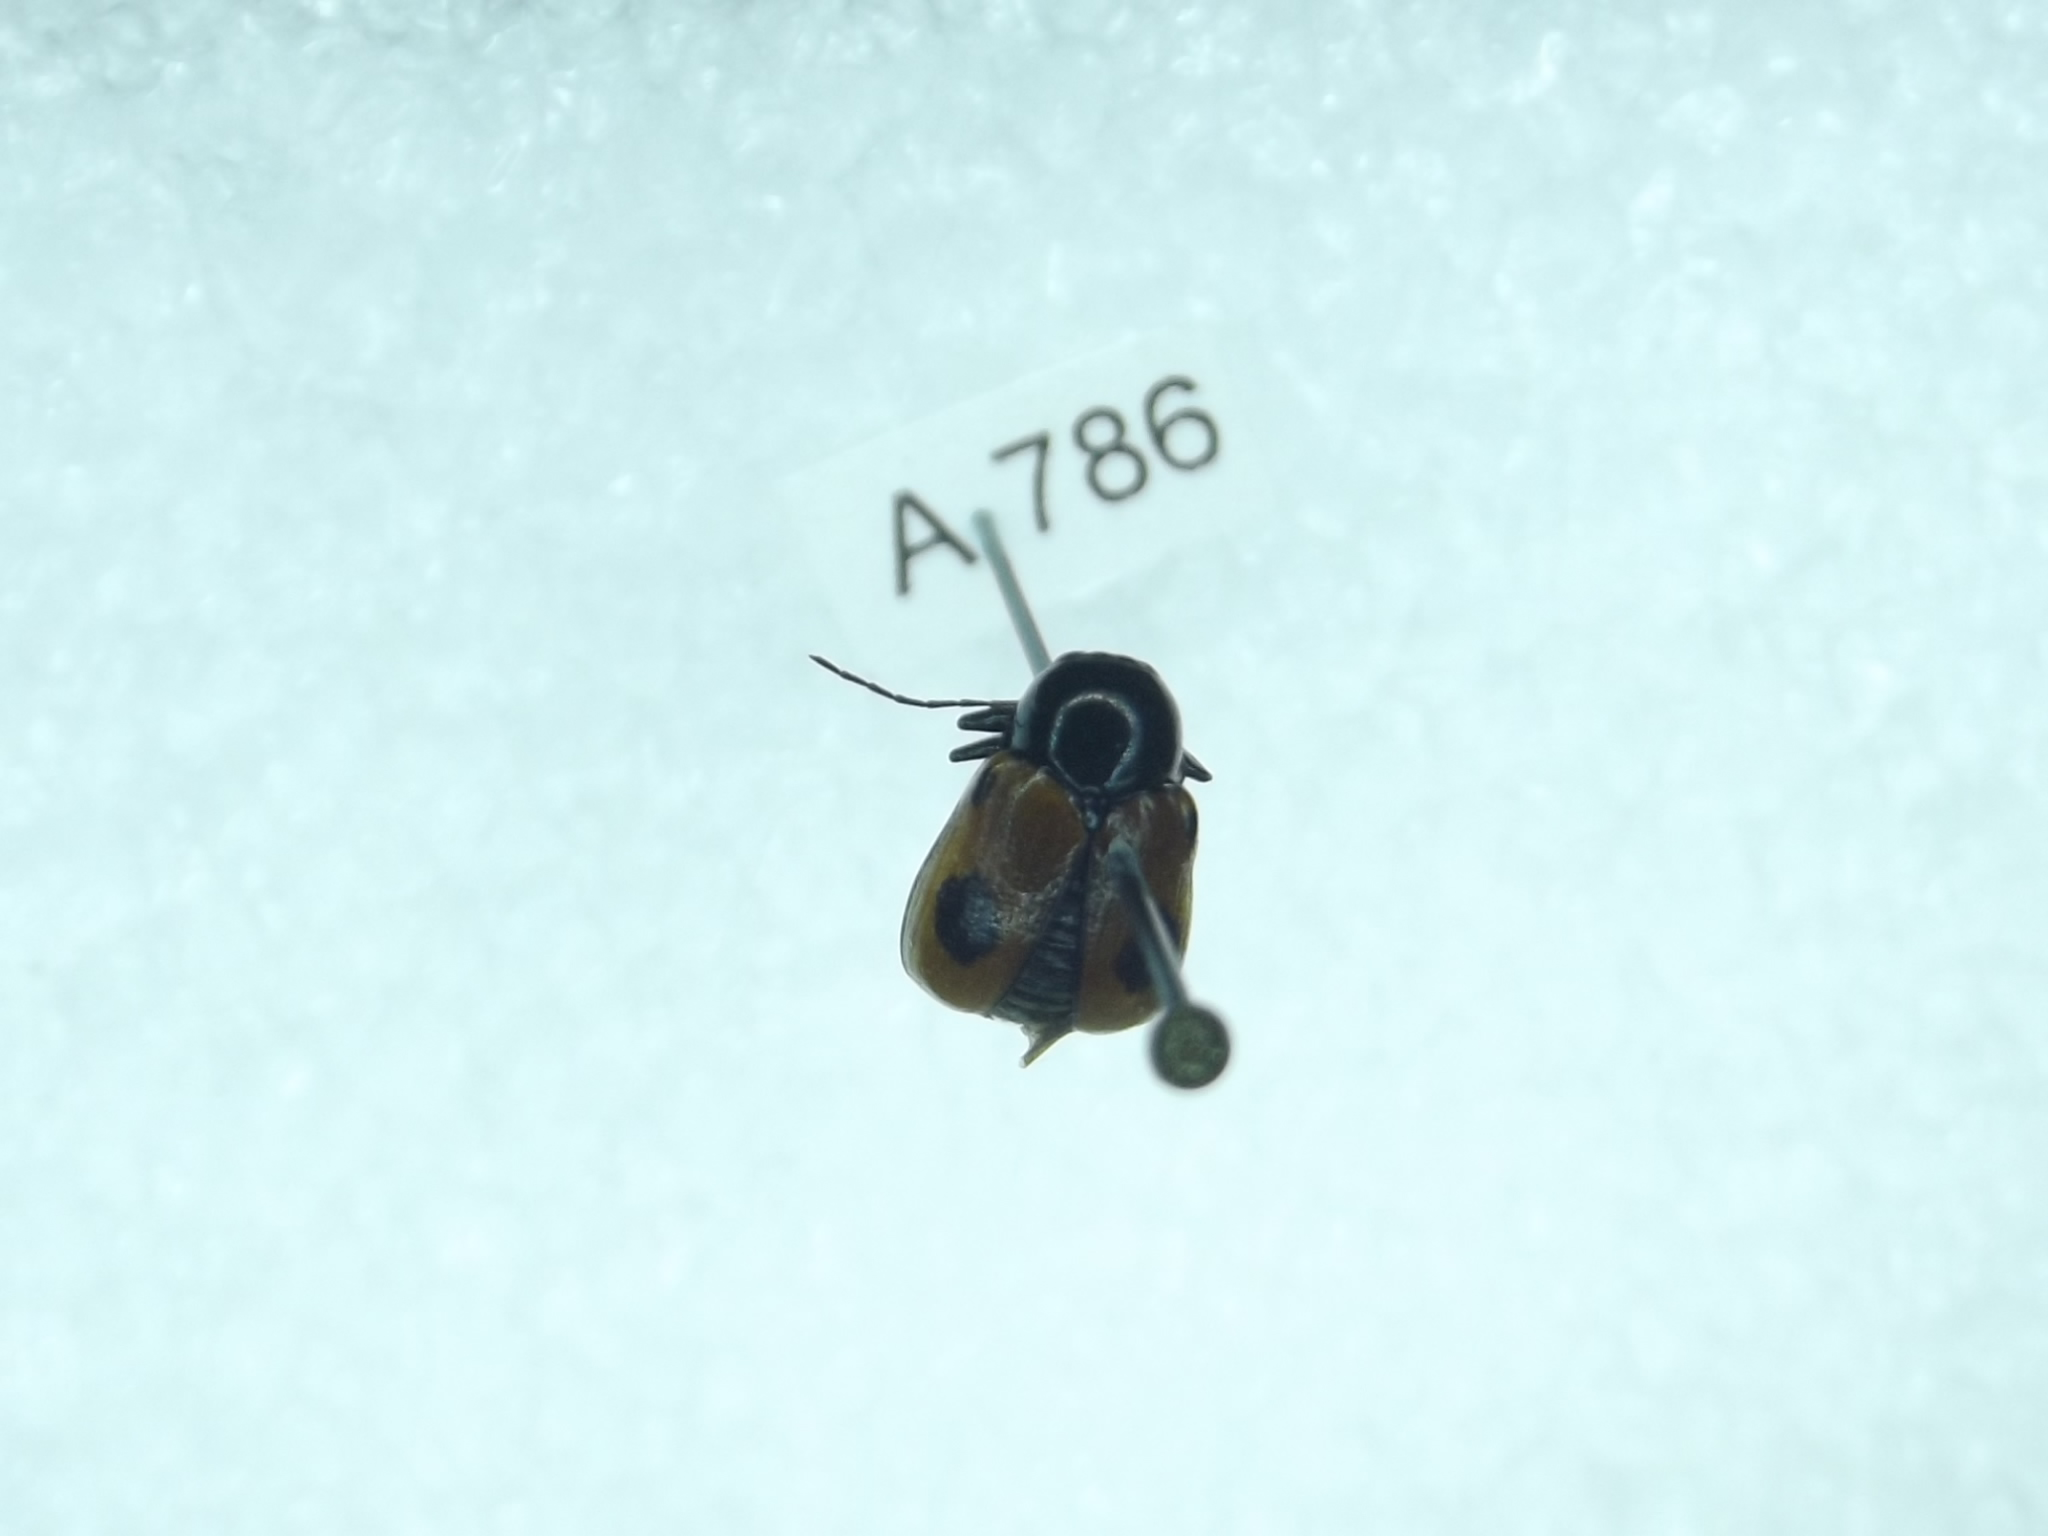Cryptocephalus_bipunctatus: (792, 579, 1229, 1062)
